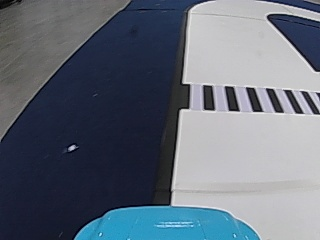CrossWalk: (183, 82, 315, 114)
